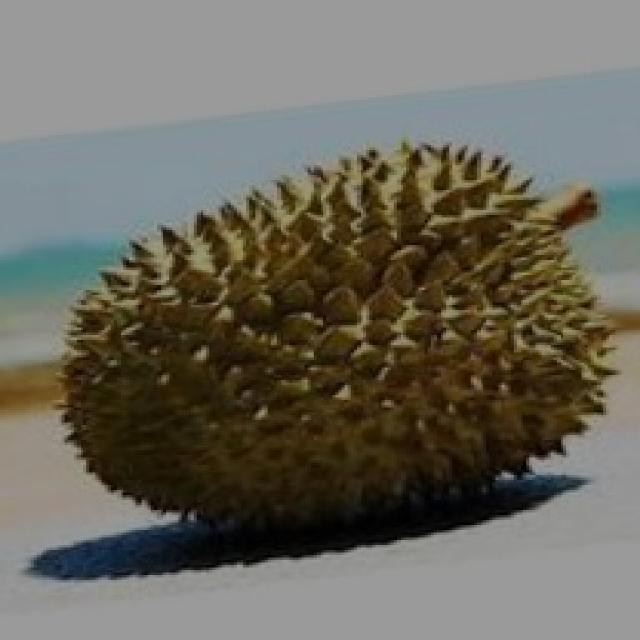fruit: (9, 163, 385, 555), (295, 112, 637, 528)
